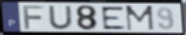8: (75, 4, 100, 31)
9: (156, 6, 176, 31)
E: (100, 5, 128, 30)
F: (22, 4, 46, 30)
M: (125, 5, 156, 32)
U: (47, 5, 75, 31)
